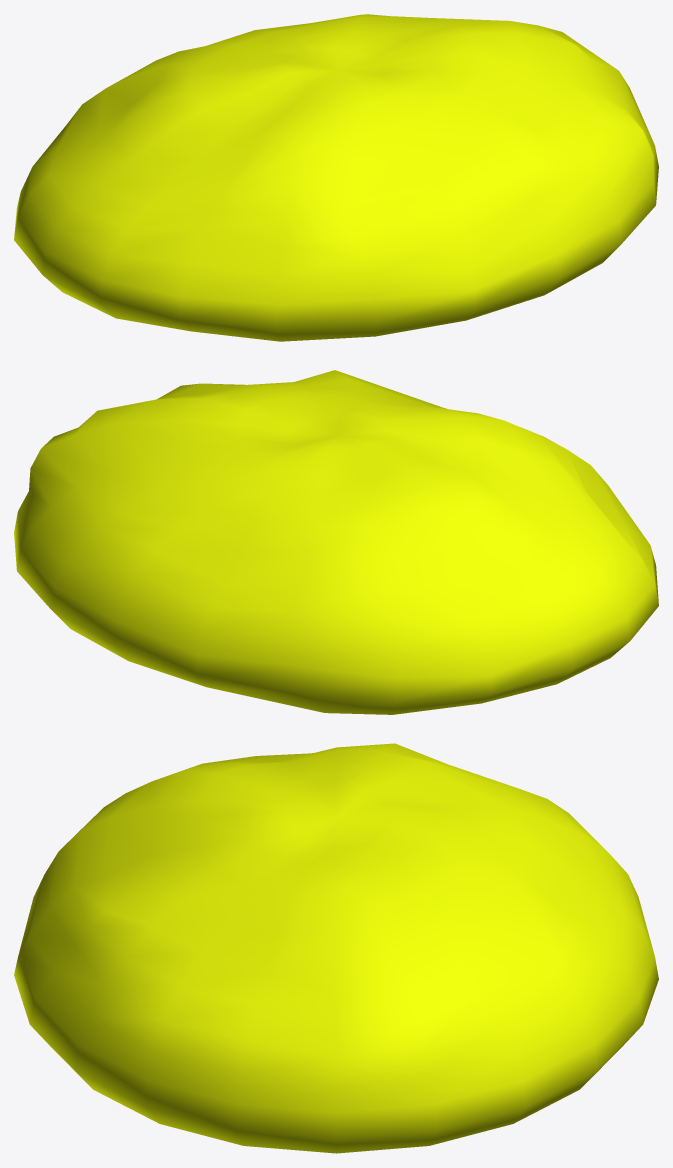
The model's file is Ball_of_Pizza_Dough.fbx.
3 renders of one model, top to bottom at view 1: azimuth 30°, elevation 25°; view 2: azimuth 150°, elevation 25°; view 3: azimuth 270°, elevation 25°, orthographic. The views are drawn at different scales.
Parts seen in each view (by area): view 1: BALL_OF_DOUGH; view 2: BALL_OF_DOUGH; view 3: BALL_OF_DOUGH.
Boxes of the visible parts, x1,y1,x2,y2 form: BALL_OF_DOUGH: [14, 14, 658, 341]; BALL_OF_DOUGH: [14, 370, 658, 714]; BALL_OF_DOUGH: [14, 743, 658, 1153].
Bounding box in the file's own units: 0.2294 × 0.0641 × 0.1883.
